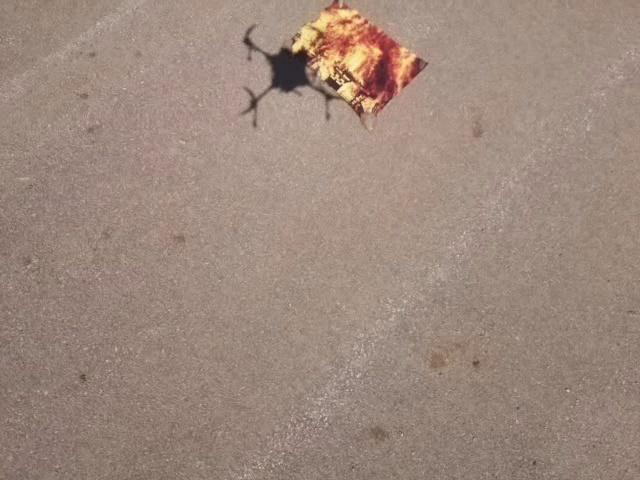fire-poster: (287, 0, 429, 132)
